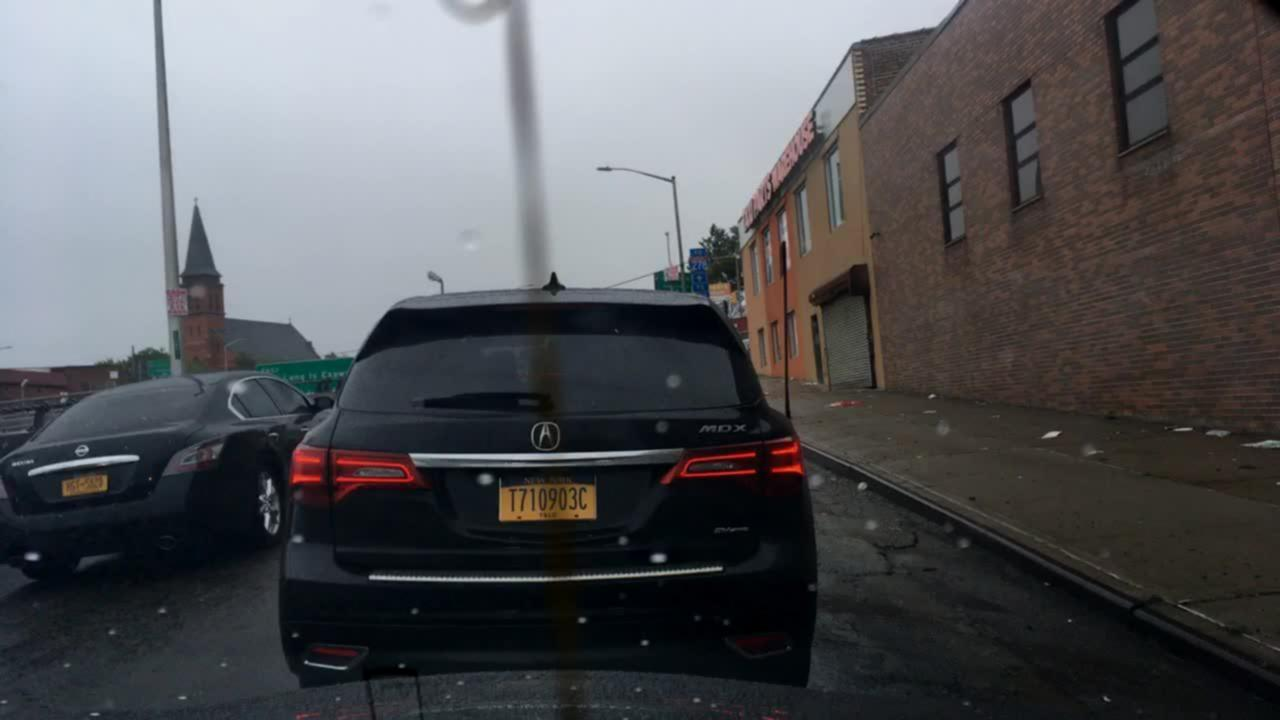Nissan: (70, 439, 90, 461)
acura: (529, 416, 567, 455)
